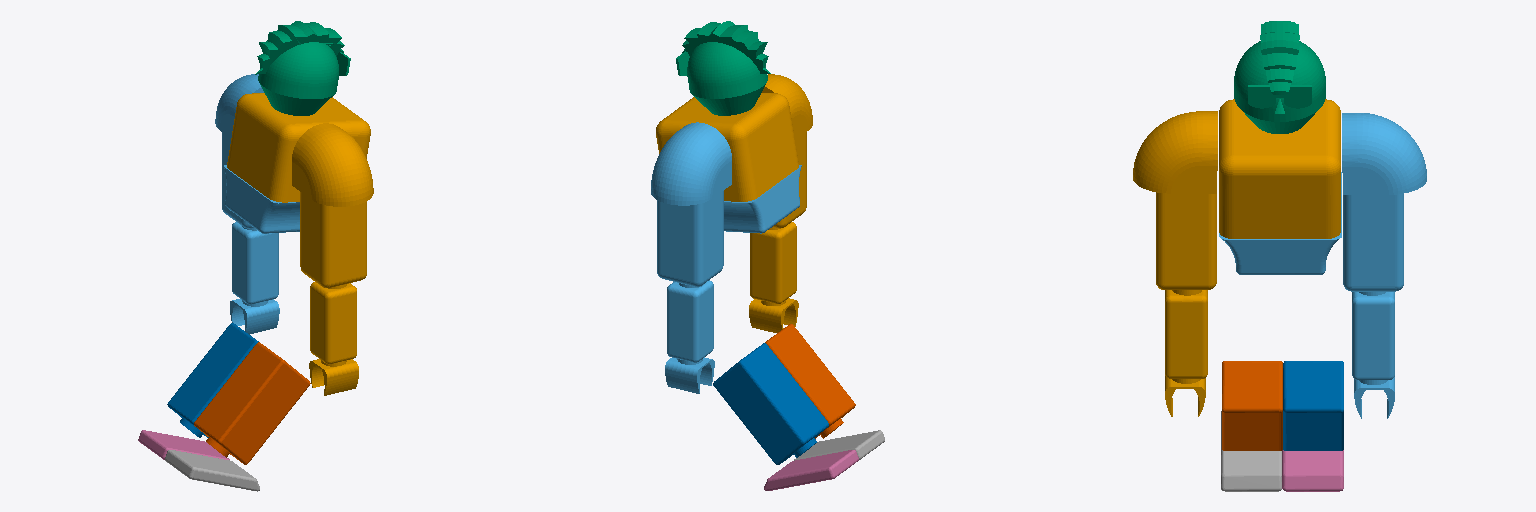
URDF robot description (myrobot):
<?xml version="1.0"?>
<robot name="myrobot">
   <link name="base_link">
    <visual>
      <origin rpy="0.1745 0 1.5708" xyz="0 -0.2 1.17"/>
      <geometry>
        <mesh filename="package://project_ars/meshes/BodySae1.dae"/>
      </geometry>
    </visual>
     <collision>
      <geometry>
        <mesh filename="package://project_ars/meshes/BodySae1.dae"/>
      </geometry>
      <origin rpy="0.1745 0 1.5708" xyz="0 -0.2 1.17"/>
    </collision>
    <inertial>
      <mass value="10.00000000"/>
      <inertia ixx="0" ixy="0" ixz="0" iyy="0" iyz="0" izz="0"/>
    </inertial>
  </link>
  
  <link name="pelvis">
    <visual>
      <origin rpy="0.1745 0 1.5708" xyz="-0.03 -0.2 0.1"/>
      <geometry>
        <mesh filename="package://project_ars/meshes/PelvisSet.dae"/>
      </geometry>
    </visual>
     <collision>
      <geometry>
        <mesh filename="package://project_ars/meshes/PelvisSet.dae"/>
      </geometry>
      <origin rpy="0.1745 0 1.5708" xyz="-0.03 -0.2 0.1"/>
    </collision>
    <inertial>
      <mass value="10.00000000"/>
      <inertia ixx="0.15041074" ixy="-0.00000615" ixz="-0.00000249" iyy="0.11756382" iyz="0.00000090" izz="0.23112792"/>
    </inertial>
  </link>
  
  <joint name="base_link_to_pelvis" type="fixed">
    <axis xyz="0 1 0"/>
    <dynamics damping="0.1" friction="0.0"/>
    <limit effort="0" lower="-0.01" upper="0.01" velocity="5"/>
    <parent link="base_link"/>
    <child link="pelvis"/>
    <origin rpy="0 0 0" xyz="0 0 0.92"/>
  </joint>
  
  <link name="left_leg">
    <visual>
      <origin rpy="1.5708 0 1.5708" xyz="-0.1 -0.09 -0.44"/>
      <geometry>
        <mesh filename="package://project_ars/meshes/Leg1.dae"/>
      </geometry>
    </visual>
    <collision>
      <geometry>
        <mesh filename="package://project_ars/meshes/Leg1.dae"/>
      </geometry>
      <origin rpy="1.5708 0 1.5708" xyz="-0.1 -0.09 -0.44"/>
    </collision>
    <inertial>
      <mass value="15.00000000"/>
      <inertia ixx="0.25437144" ixy="-0.00000022" ixz="0.00000004" iyy="0.09441054" iyz="-0.00000031" izz="0.25437051"/>
    </inertial>
  </link>
  
  <joint name="pelvis_to_left_leg" type="revolute">
    <axis xyz="0 1 0"/>
    <dynamics damping="0.1" friction="0.0"/>
    <limit effort="10000.0" lower="-0.350" upper="0.850" velocity="5"/>
    <parent link="pelvis"/>
    <child link="left_leg"/>
    <origin rpy="0 0 0" xyz="0.1 0.1 0"/>
  </joint>
  
  <link name="right_leg">
    <visual>
      <origin rpy="1.5708 0 1.5708" xyz="-0.1 -0.09 -0.44"/>
      <geometry>
        <mesh filename="package://project_ars/meshes/Leg1.dae"/>
      </geometry>
    </visual>
    <collision>
      <geometry>
        <mesh filename="package://project_ars/meshes/Leg1.dae"/>
      </geometry>
      <origin rpy="1.5708 0 1.5708" xyz="-0.1 -0.09 -0.44"/>
    </collision>
    <inertial>
      <mass value="15.00000000"/>
      <inertia ixx="0.25437144" ixy="-0.00000022" ixz="0.00000004" iyy="0.09441054" iyz="-0.00000031" izz="0.25437051"/>
    </inertial>
  </link>
  
  <joint name="pelvis_to_right_leg" type="revolute">
    <axis xyz="0 -1 0"/>
    <dynamics damping="0.1" friction="0.0"/>
    <limit effort="10000.0" lower="-0.350" upper="0.850" velocity="5"/>
    <parent link="pelvis"/>
    <child link="right_leg"/>
    <origin rpy="0 0 0" xyz="0.1 -0.10 0"/>
  </joint>
  
  <link name="left_leg2">
    <visual>
      <origin rpy="1.5708 0 1.5708" xyz="-0.1 -0.09 -0.4"/>
      <geometry>
        <mesh filename="package://project_ars/meshes/Leg2.dae"/>
      </geometry>
    </visual>
    <collision>
      <geometry>
        <mesh filename="package://project_ars/meshes/Leg2.dae"/>
      </geometry>
      <origin rpy="1.5708 0 1.5708" xyz="-0.1 -0.09 -0.4"/>
    </collision>
    <inertial>
      <mass value="15.00000000"/>
      <inertia ixx="0.24913623" ixy="-0.00000966" ixz="0.00001190" iyy="0.08858279" iyz="-0.00001755" izz="0.25843459"/>
    </inertial>
  </link>
  
  <joint name="left_leg_to_left_leg2" type="revolute">
    <axis xyz="0 -1 0"/>
    <dynamics damping="0.1" friction="0.0"/>
    <limit effort="1000" lower="-0.800" upper="-0.790" velocity="5"/>
    <parent link="left_leg"/>
    <child link="left_leg2"/>
    <origin rpy="0 0 0" xyz="0 0 -0.5"/>
  </joint>
  
  <link name="right_leg2">
    <visual>
      <origin rpy="1.5708 0 1.5708" xyz="-0.1 -0.09 -0.4"/>
      <geometry>
        <mesh filename="package://project_ars/meshes/Leg2.dae"/>
      </geometry>
    </visual>
    <collision>
      <geometry>
        <mesh filename="package://project_ars/meshes/Leg2.dae"/>
      </geometry>
      <origin rpy="1.5708 0 1.5708" xyz="-0.1 -0.09 -0.4"/>
    </collision>
    <inertial>
      <mass value="15.00000000"/>
      <inertia ixx="0.24913623" ixy="-0.00000966" ixz="0.00001190" iyy="0.08858279" iyz="-0.00001755" izz="0.25843459"/>
    </inertial>
  </link>
  
  <joint name="right_leg_to_right_leg2" type="revolute">
    <axis xyz="0 -1 0"/>
    <dynamics damping="0.1" friction="0.0"/>
    <limit effort="1000" lower="-0.800" upper="-0.790" velocity="5"/>
    <parent link="right_leg"/>
    <child link="right_leg2"/>
    <origin rpy="0 0 0" xyz="0 0 -0.5"/>
  </joint>  

  <link name="left_leg3">
    <visual>
      <origin rpy="-0.2 0 1.5708" xyz="0.2 -0.15 -0.05"/>
      <geometry>
        <mesh filename="package://project_ars/meshes/Leg3.dae"/>
      </geometry>
    </visual>
    <collision>
      <geometry>
        <mesh filename="package://project_ars/meshes/Leg3.dae"/>
      </geometry>
      <origin rpy="-0.2 0 1.5708" xyz="0.2 -0.15 -0.05"/>
    </collision>
    <inertial>
      <mass value="40.00000000"/>
      <inertia ixx="0.35078345" ixy="-0.00002883" ixz="-0.00001171" iyy="0.13771172" iyz="-0.00273541" izz="0.47245737"/>
    </inertial>
  </link>
  
  <joint name="left_leg2_to_left_leg3" type="revolute">
    <axis xyz="0 -1 0"/>
    <dynamics damping="0.1" friction="0.0"/>
    <limit effort="1000" lower="0.200" upper="0.210" velocity="5"/>
    <parent link="left_leg2"/>
    <child link="left_leg3"/>
    <origin rpy="0 0 0" xyz="0 0 -0.42"/>
  </joint>
  
  <link name="right_leg3">
    <visual>
      <origin rpy="-0.2 0 1.5708" xyz="0.2 -0.15 -0.05"/>
      <geometry>
        <mesh filename="package://project_ars/meshes/Leg3.dae"/>
      </geometry>
    </visual>
    <collision>
      <geometry>
        <mesh filename="package://project_ars/meshes/Leg3.dae"/>
      </geometry>
      <origin rpy="-0.2 0 1.5708" xyz="0.2 -0.15 -0.05"/>
    </collision>
    <inertial>
      <mass value="40.00000000"/>
      <inertia ixx="0.35078345" ixy="-0.00002883" ixz="-0.00001171" iyy="0.13771172" iyz="-0.00273541" izz="0.47245737"/>
    </inertial>
  </link>
  
  <joint name="right_leg2_to_right_leg3" type="revolute">
    <axis xyz="0 -1 0"/>
    <dynamics damping="0.1" friction="0.0"/>
    <limit effort="1000" lower="0.200" upper="0.210" velocity="5"/>
    <parent link="right_leg2"/>
    <child link="right_leg3"/>
    <origin rpy="0 0 0" xyz="0 0 -0.42"/>
  </joint>  
  
  <link name="right_hand">
    <visual>
      <origin rpy="0 0 1.5708" xyz="-0.13 -0.33 -0.9"/>
      <geometry>
        <mesh filename="package://project_ars/meshes/HandSat.dae"/>
      </geometry>
    </visual>
    <collision>
      <geometry>
        <mesh filename="package://project_ars/meshes/HandSat.dae"/>
      </geometry>
      <origin rpy="0 0 1.5708" xyz="-0.13 -0.33 -0.9"/>
    </collision>
    <inertial>
      <mass value="8.00000000"/>
      <inertia ixx="0.59727673" ixy="0.00000098" ixz="0.00377988" iyy="0.60183456" iyz="-0.00000109" izz="0.06118834"/>
    </inertial>
  </link>
  
  <joint name="base_link_to_right_hand" type="revolute">
    <axis xyz="0 -1 0"/>
    <limit effort="30" lower="0" upper="3.14" velocity="15"/>
    <parent link="base_link"/>
    <child link="right_hand"/>
    <origin rpy="0 0 0" xyz="0.2 -0.15 1.3"/>
  </joint>
  
  <link name="left_hand">
    <visual>
      <origin rpy="0 0 1.5708" xyz="-0.13 -0.33 -0.9"/>
      <geometry>
        <mesh filename="package://project_ars/meshes/HandSat.dae"/>
      </geometry>
    </visual>
    <collision>
      <geometry>
        <mesh filename="package://project_ars/meshes/HandSat.dae"/>
      </geometry>
      <origin rpy="0 0 1.5708" xyz="-0.13 -0.33 -0.9"/>
    </collision>
    <inertial>
      <mass value="8.00000000"/>
      <inertia ixx="0.59727673" ixy="0" ixz="0.00377988" iyy="0.60183456" iyz="0" izz="0.06118834"/>
    </inertial>
  </link>
  
  <joint name="base_link_to_left_hand" type="revolute">
    <axis xyz="0 1 0"/>
    <limit effort="30" lower="0" upper="3.14" velocity="15"/>
    <parent link="base_link"/>
    <child link="left_hand"/>
    <origin rpy="0 0 3.1416" xyz="0.2 0.15 1.3"/>
  </joint>
  
  <link name="head">
    <visual>
      <origin rpy="0.1745 0 1.5708" xyz="-0.1 -0.15 0.15"/>
      <geometry>
        <mesh filename="package://project_ars/meshes/HeadSat.dae"/>
      </geometry>
    </visual>
    <collision>
      <geometry>
        <mesh filename="package://project_ars/meshes/HeadSat.dae"/>
      </geometry>
      <origin rpy="0.1745 0 1.5708" xyz="-0.1 -0.15 0.15"/>
    </collision>
    <inertial>
      <mass value="2.00000000"/>
      <inertia ixx="0" ixy="0" ixz="0" iyy="0" iyz="0" izz="0"/>
    </inertial>
  </link>
  
  <joint name="base_link_to_head" type="revolute">
    <axis xyz="0 1 0"/>
    <limit effort="1000.0" lower="-0.3" upper="0.5" velocity="5"/>
    <parent link="base_link"/>
    <child link="head"/>
    <origin rpy="0 0 0" xyz="0.1 0 1.32"/>
  </joint>
</robot>

--- Facts derived from the render (not from the file) ---
3 views of the same robot in one strip: view 1: azimuth 30°, elevation 25°; view 2: azimuth 150°, elevation 25°; view 3: azimuth 270°, elevation 25° (orthographic).
Robot: myrobot — 11 links, 10 joints (9 revolute, 1 fixed); root link base_link; default pose: joints at zero except 4 at the middle of their limits (left_leg_to_left_leg2 = -0.795, right_leg_to_right_leg2 = -0.795, left_leg2_to_left_leg3 = 0.205, right_leg2_to_right_leg3 = 0.205).
Visible links, largest first — view 1: right_hand, right_leg2, base_link, head, left_hand, left_leg2, pelvis, right_leg3, left_leg3; view 2: left_hand, base_link, left_leg2, right_hand, head, right_leg2, pelvis, left_leg3, right_leg3; view 3: right_hand, left_hand, base_link, head, right_leg2, left_leg2, pelvis, right_leg3, left_leg3.
Boxes of the visible links, left/top/right/bottom form: right_hand: left=292, top=123, right=373, bottom=395; right_leg2: left=194, top=342, right=310, bottom=464; base_link: left=227, top=93, right=370, bottom=202; head: left=255, top=21, right=350, bottom=115; left_hand: left=215, top=74, right=279, bottom=334; left_leg2: left=167, top=323, right=258, bottom=437; pelvis: left=224, top=165, right=299, bottom=233; right_leg3: left=165, top=450, right=259, bottom=491; left_leg3: left=138, top=430, right=229, bottom=459; left_hand: left=651, top=122, right=731, bottom=393; base_link: left=656, top=93, right=798, bottom=201; left_leg2: left=713, top=343, right=828, bottom=464; right_hand: left=749, top=74, right=812, bottom=332; head: left=676, top=21, right=770, bottom=115; right_leg2: left=765, top=324, right=855, bottom=438; pelvis: left=724, top=165, right=801, bottom=233; left_leg3: left=764, top=450, right=858, bottom=490; right_leg3: left=794, top=430, right=884, bottom=460; right_hand: left=1133, top=111, right=1217, bottom=416; left_hand: left=1342, top=113, right=1426, bottom=418; base_link: left=1219, top=99, right=1340, bottom=238; head: left=1234, top=21, right=1325, bottom=133; right_leg2: left=1222, top=361, right=1282, bottom=450; left_leg2: left=1283, top=361, right=1343, bottom=450; pelvis: left=1219, top=172, right=1341, bottom=274; right_leg3: left=1221, top=411, right=1281, bottom=491; left_leg3: left=1282, top=450, right=1343, bottom=491.
Size in the robot's own frame: 0.8023 by 0.96 by 1.8 metres.
Meshes: 7 distinct files referenced, 9 mesh visuals loaded (6 Collada DAE); not drawn: 2 (reference not matched to a file when rendering).